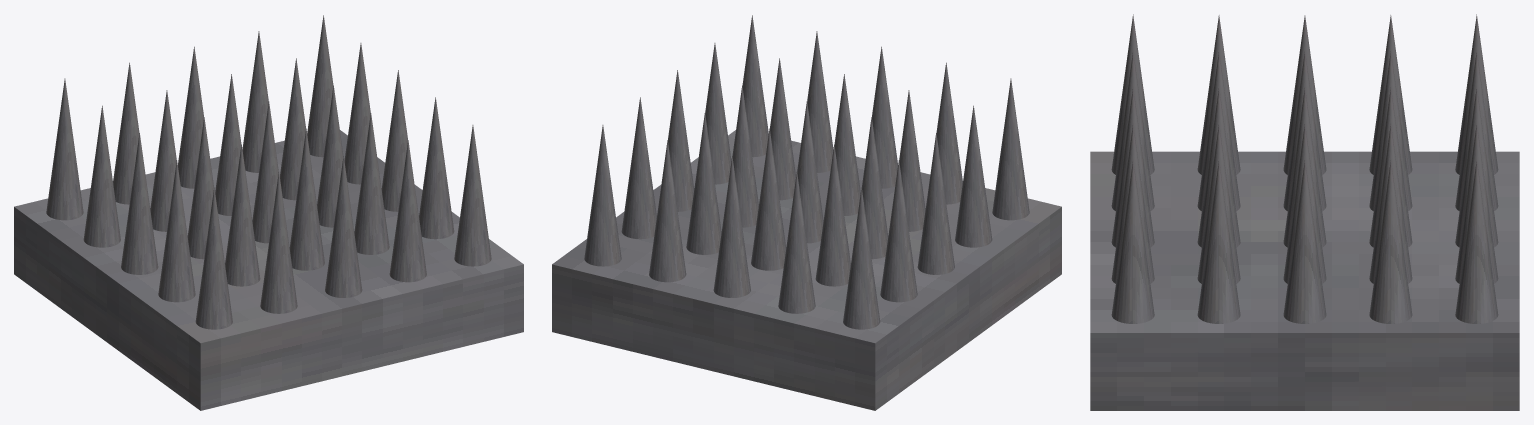
The model's file is spikes.glb.
3 views of the same model, side by side, from view 1: azimuth 30°, elevation 25°; view 2: azimuth 150°, elevation 25°; view 3: azimuth 270°, elevation 25° (orthographic). The views are drawn at different scales.
Parts seen in each view (by area): view 1: Cube, Cone.011, Cone.018, Cone.008, Cone.022, Cone.005, Cone.010, Cone.006, Cone.014, Cone.002, Cone.007, Cone.021 (+14 smaller); view 2: Cube, Cone.019, Cone.008, Cone.018, Cone.024, Cone.014, Cone.017, Cone.006, Cone.010, Cone.016, Cone.015, Cone.023 (+14 smaller); view 3: Cube, Cone.020, Cone.021, Cone.023, Cone.022, Cone.024, Cone.003, Cone.006, Cone.001, Cone.007, Cone.012, Cone.015 (+14 smaller).
Part boxes in pixels (left/top/right/bottom): Cube: left=14, top=130, right=523, bottom=410; Cone.011: left=260, top=172, right=297, bottom=313; Cone.018: left=46, top=78, right=83, bottom=220; Cone.008: left=195, top=187, right=232, bottom=329; Cone.022: left=454, top=125, right=491, bottom=266; Cone.005: left=389, top=140, right=426, bottom=282; Cone.010: left=158, top=160, right=195, bottom=302; Cone.006: left=121, top=133, right=158, bottom=274; Cone.014: left=83, top=105, right=120, bottom=247; Cone.002: left=325, top=156, right=362, bottom=297; Cone.007: left=225, top=144, right=260, bottom=286; Cone.021: left=419, top=97, right=454, bottom=239; Cube: left=552, top=130, right=1061, bottom=410; Cone.019: left=778, top=172, right=815, bottom=313; Cone.008: left=992, top=78, right=1029, bottom=220; Cone.018: left=843, top=187, right=880, bottom=329; Cone.024: left=584, top=125, right=621, bottom=266; Cone.014: left=880, top=160, right=917, bottom=302; Cone.017: left=649, top=140, right=686, bottom=282; Cone.006: left=917, top=133, right=954, bottom=274; Cone.010: left=955, top=105, right=992, bottom=247; Cone.016: left=713, top=156, right=750, bottom=297; Cone.015: left=815, top=144, right=850, bottom=286; Cone.023: left=621, top=97, right=656, bottom=239; Cube: left=1090, top=151, right=1519, bottom=410; Cone.020: left=1283, top=160, right=1326, bottom=323; Cone.021: left=1197, top=160, right=1240, bottom=323; Cone.023: left=1369, top=160, right=1412, bottom=323; Cone.022: left=1111, top=159, right=1154, bottom=323; Cone.024: left=1455, top=159, right=1498, bottom=323; Cone.003: left=1283, top=124, right=1326, bottom=283; Cone.006: left=1283, top=15, right=1326, bottom=174; Cone.001: left=1197, top=87, right=1240, bottom=247; Cone.007: left=1197, top=51, right=1240, bottom=211; Cone.012: left=1369, top=87, right=1412, bottom=247; Cone.015: left=1369, top=51, right=1412, bottom=211.
Size of the model in its own units: 1 by 0.6 by 1.
Materials: 1 (1 with a texture image).
